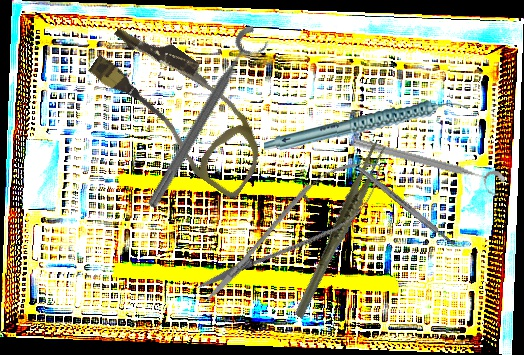Cannula: (74, 13, 288, 202)
Fixation Ring: (141, 21, 274, 218), (349, 133, 507, 199)
Handpiece: (263, 96, 469, 155)
Micro Scissor: (185, 141, 398, 318)
Scalpel Handle: (356, 164, 457, 248)
Tissue Forceps: (264, 139, 414, 321)
